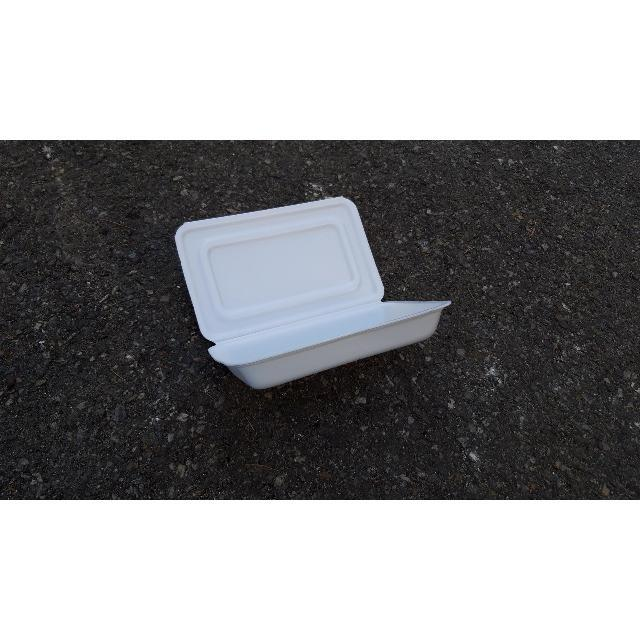Plastico descartable: (174, 197, 451, 391)
